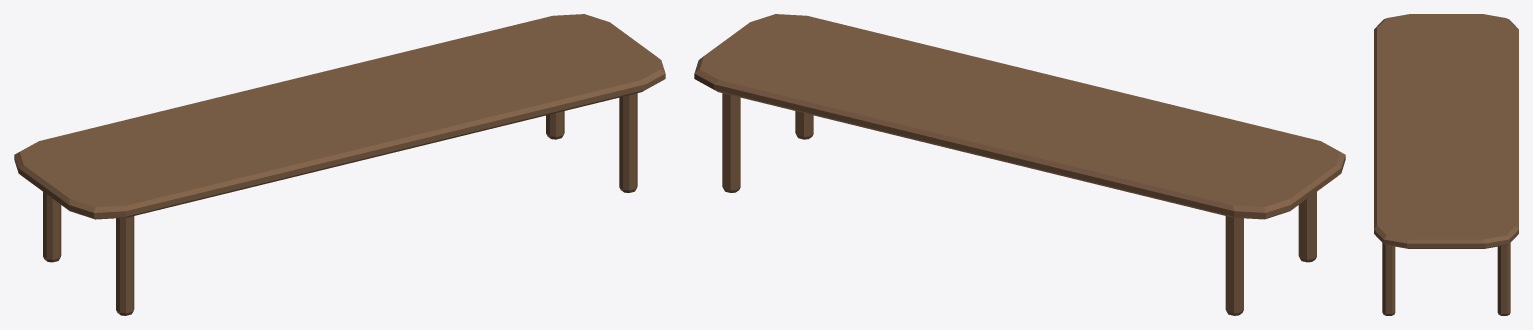
The model's file is GarageTable.fbx.
3 views of the same model, side by side, from view 1: azimuth 30°, elevation 25°; view 2: azimuth 150°, elevation 25°; view 3: azimuth 270°, elevation 25° (orthographic). The views are drawn at different scales.
Visible parts, largest first — view 1: GarageTable; view 2: GarageTable; view 3: GarageTable.
Boxes of the visible parts, <box> form: GarageTable: <box>14,14,665,315</box>; GarageTable: <box>694,14,1345,315</box>; GarageTable: <box>1374,14,1518,315</box>.
Size of the model in its own units: 3.2 by 0.5956 by 0.8589.
Materials: 1 (1 with a texture image).
